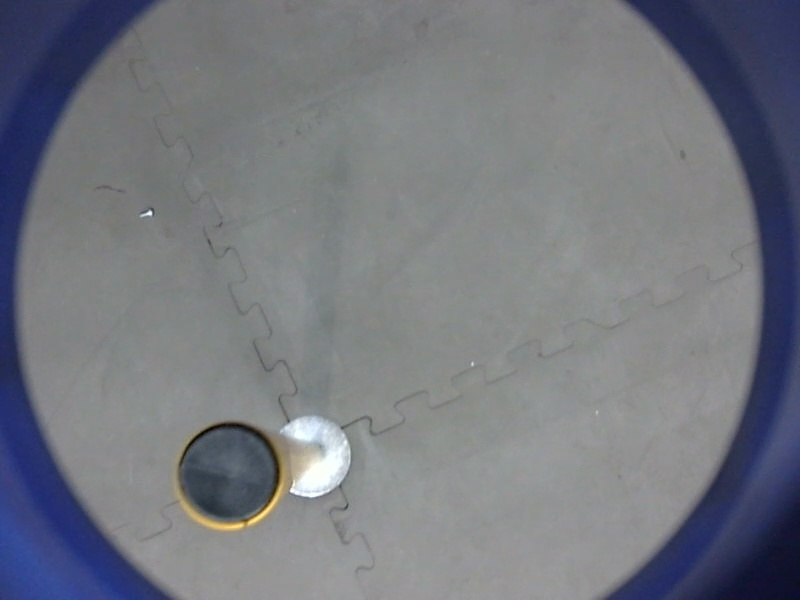tip: (168, 414, 291, 537)
